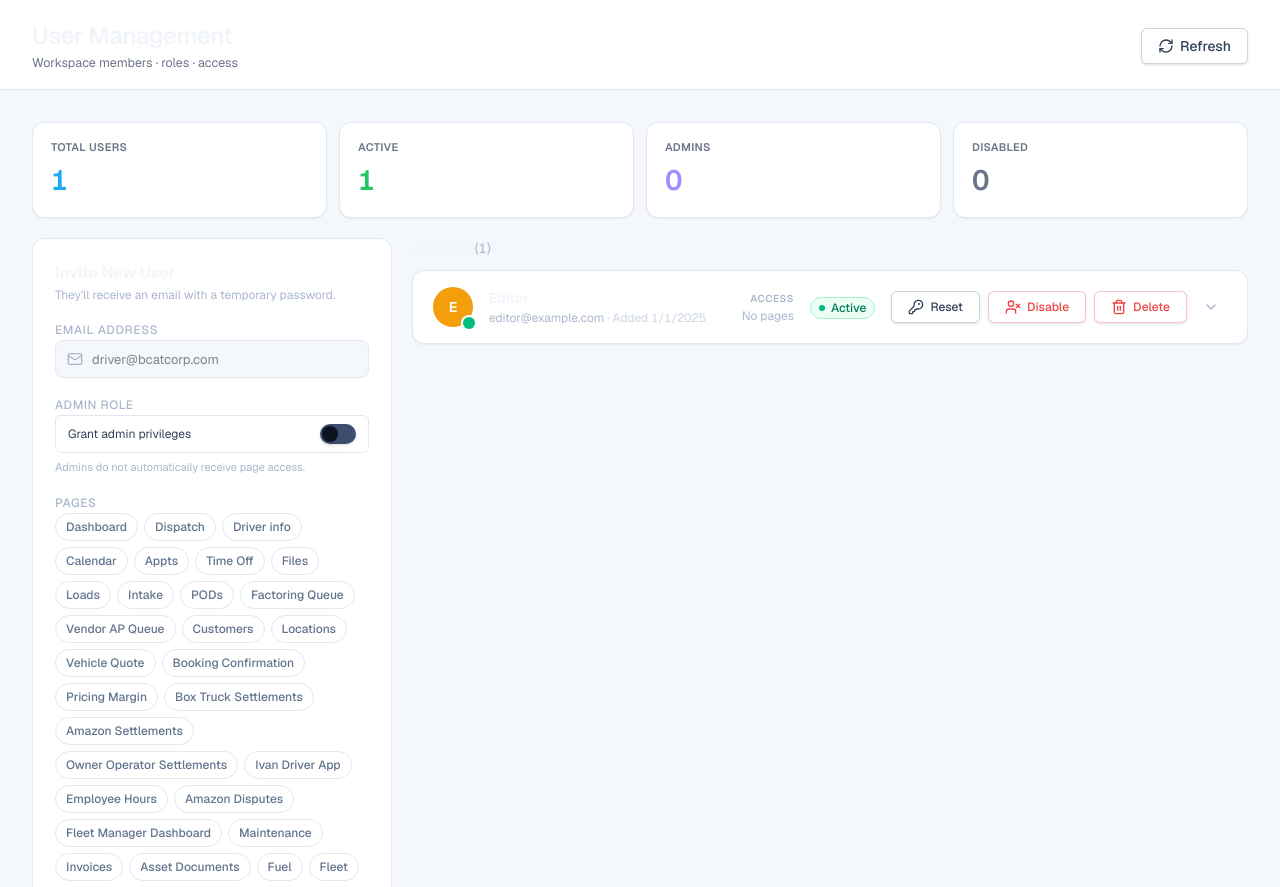
Test case: UsersPage › disables page toggles while saving and prevents overlapping save requests for one user
Expected: the text "editor@example.com" is shown, left=489, top=310, right=604, bottom=326
Click the button named "Toggle permissions" at (1211, 307), box left=1195, top=291, right=1227, bottom=323
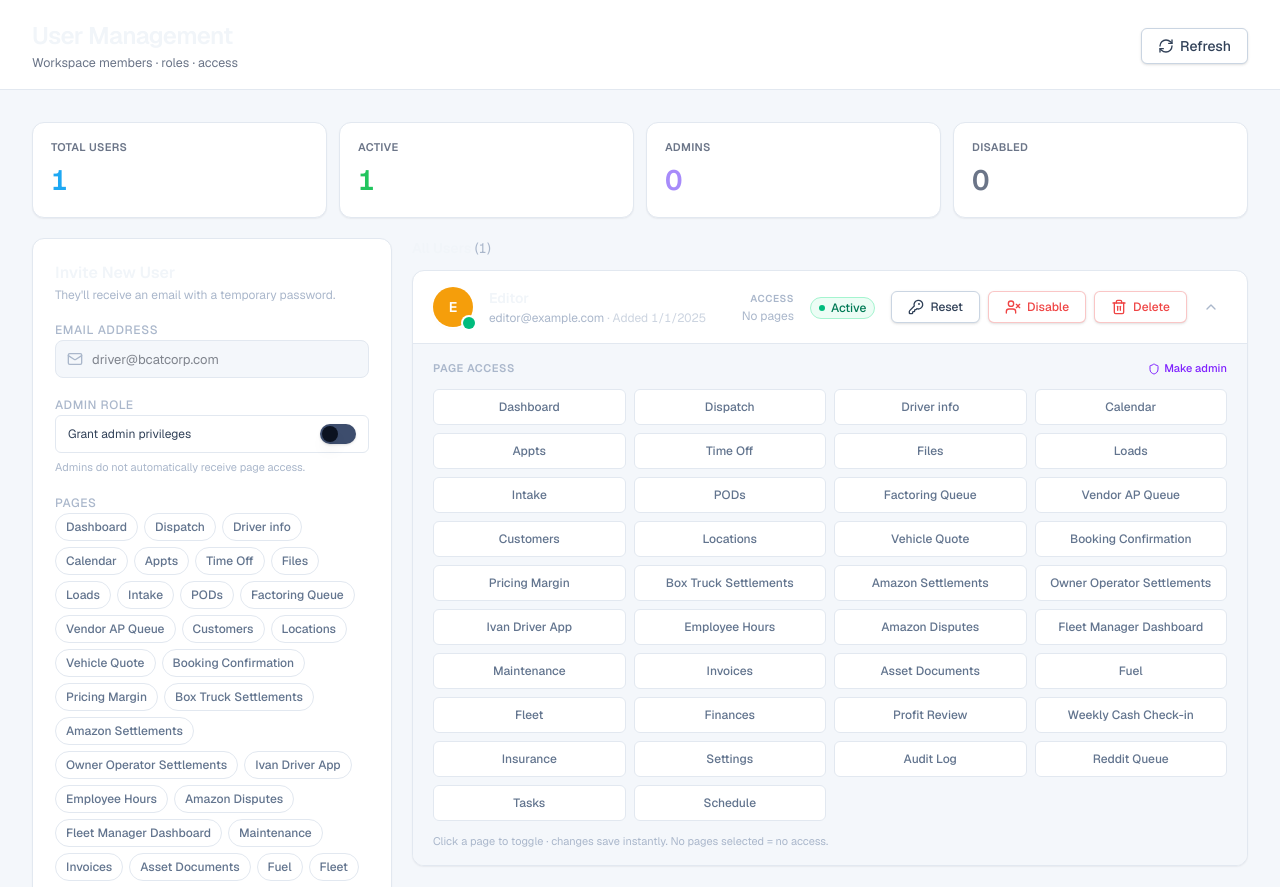
Result: the button with test id "user-page-toggle" is shown
Click the button with test id "user-page-toggle" at (529, 407), box left=433, top=389, right=626, bottom=425
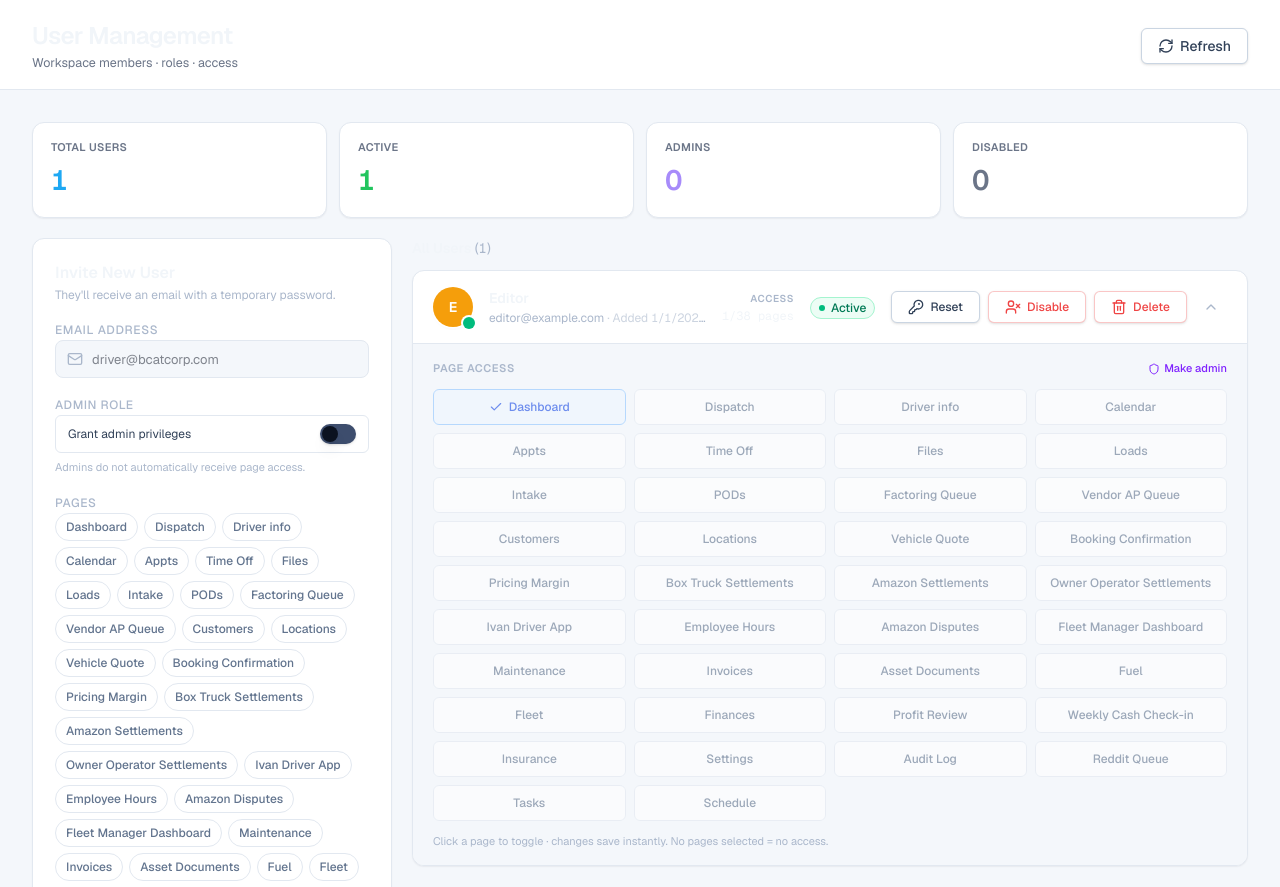
Result: the button with test id "user-page-toggle" is disabled at left=433, top=389, right=626, bottom=425
// … and clicking another toggle does not start a second request.
Click the button with test id "user-page-toggle" at (1131, 451), box left=1034, top=433, right=1227, bottom=469
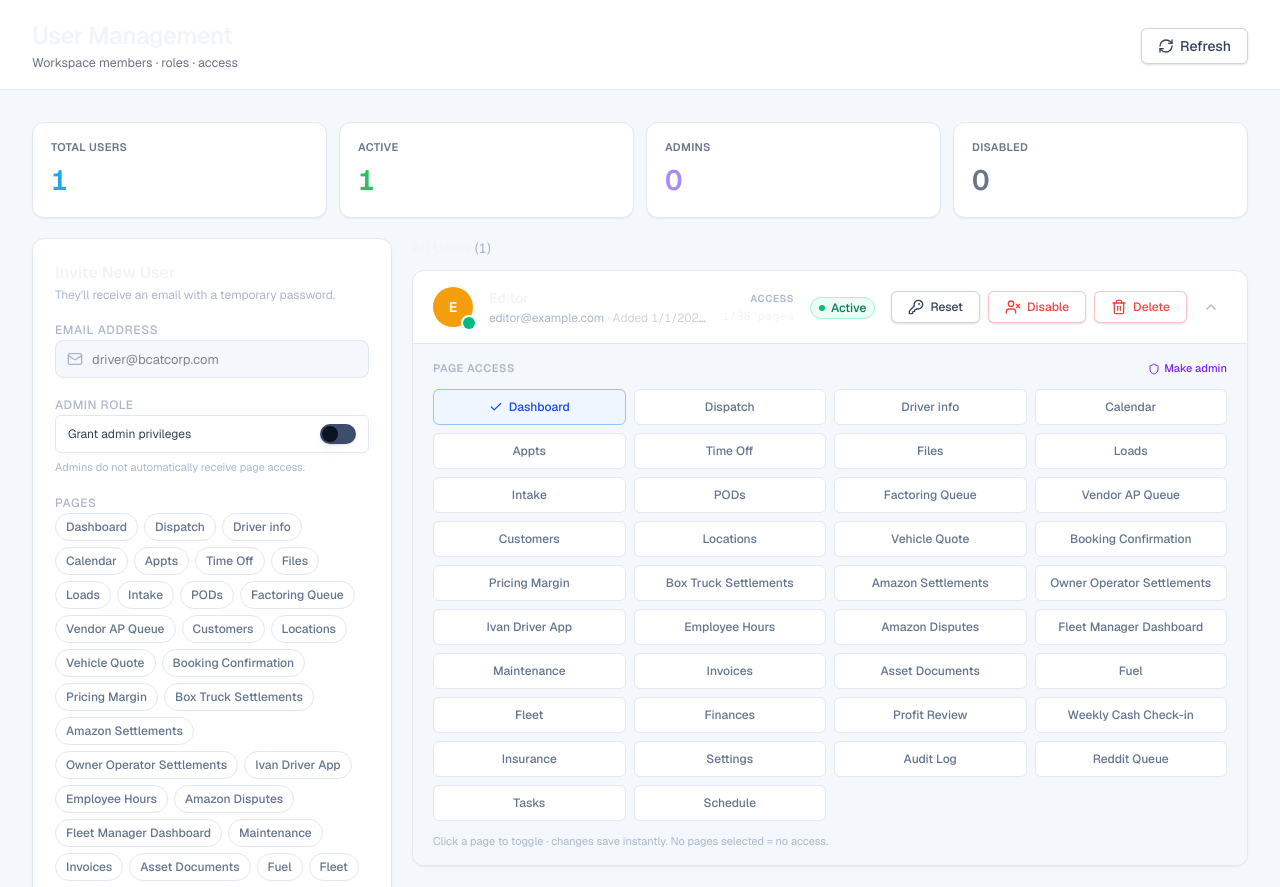
Result: the button with test id "user-page-toggle" is enabled at left=433, top=389, right=626, bottom=425
